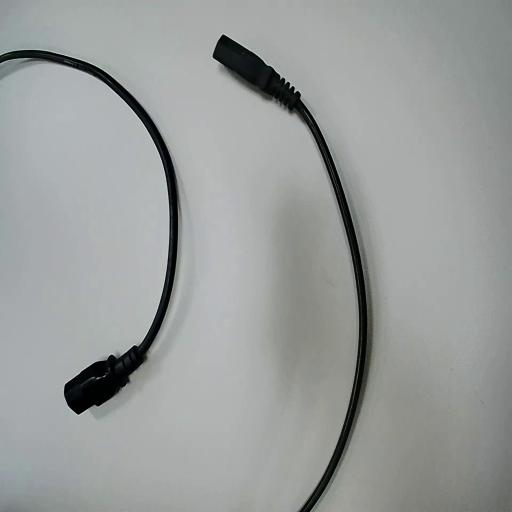wire: (214, 36, 367, 511), (0, 51, 177, 412)
